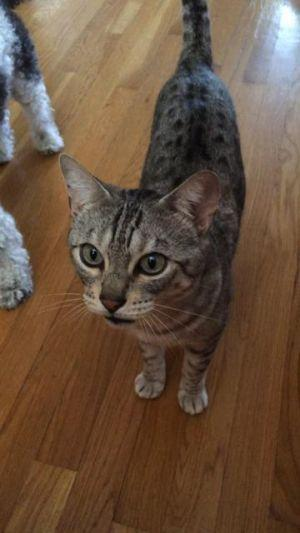bengal: (42, 147, 240, 347)
